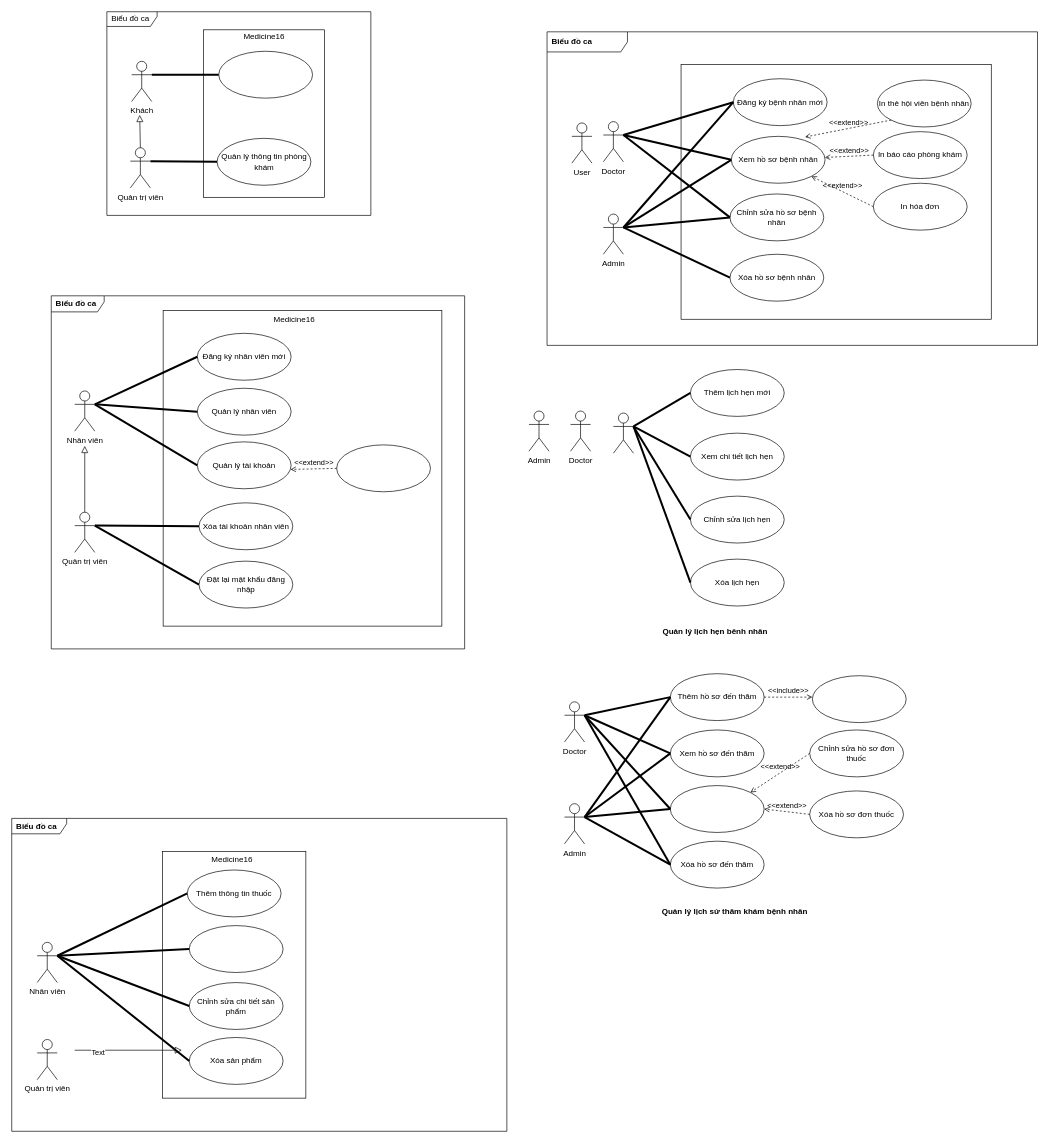
Image size: 1049x1143. Some labels were removed from this diagram. The centre of each missing label's shape, as x and y in pixels:
Chỉnh sửa hồ sơ đến thăm: point (717, 808)
Staff: point (623, 432)
Thay đổi mật khẩu: point (383, 468)
Thêm hồ sơ đơn thuốc: point (859, 699)
Xem thông tin phòng khám: point (265, 74)
